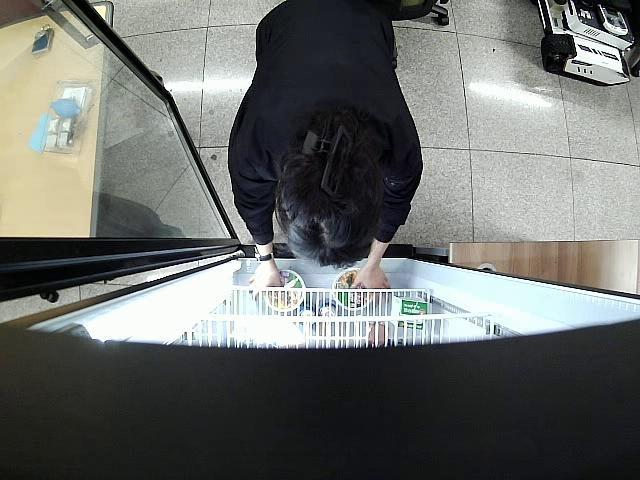09_yukGaeJang: (266, 270, 306, 314), (332, 269, 372, 310)
